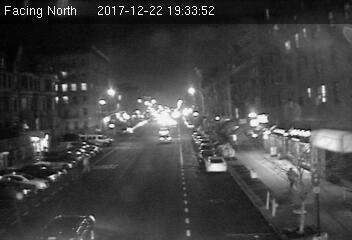car: (203, 155, 228, 174), (158, 134, 172, 143)
